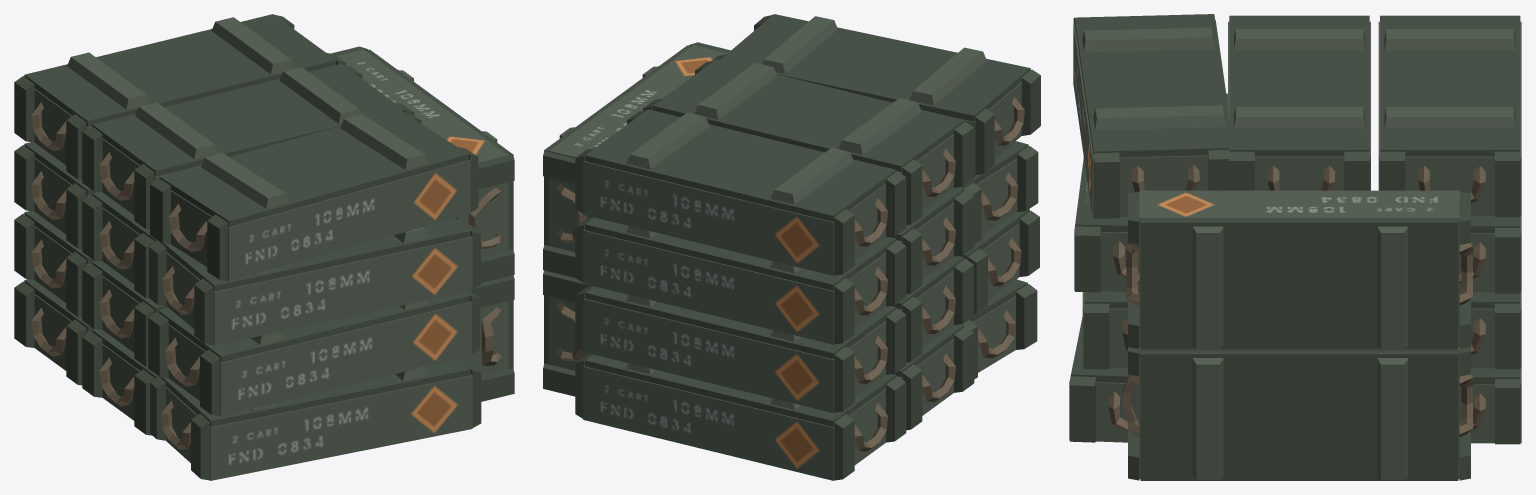
The model's file is SM_Prop_Crate_Stack_01.glb.
3 renders of one model, left to right at view 1: azimuth 30°, elevation 25°; view 2: azimuth 150°, elevation 25°; view 3: azimuth 270°, elevation 25°, orthographic. The views are drawn at different scales.
Visible parts, largest first — view 1: SM_Prop_Crate_Stack_01; view 2: SM_Prop_Crate_Stack_01; view 3: SM_Prop_Crate_Stack_01.
Boxes of the visible parts, left/top/right/bottom form: SM_Prop_Crate_Stack_01: left=14, top=14, right=514, bottom=480; SM_Prop_Crate_Stack_01: left=543, top=14, right=1040, bottom=480; SM_Prop_Crate_Stack_01: left=1069, top=14, right=1521, bottom=480.
Size of the model in its own units: 1.55 by 1.2 by 1.61.
Materials: 1 (1 with a texture image).
